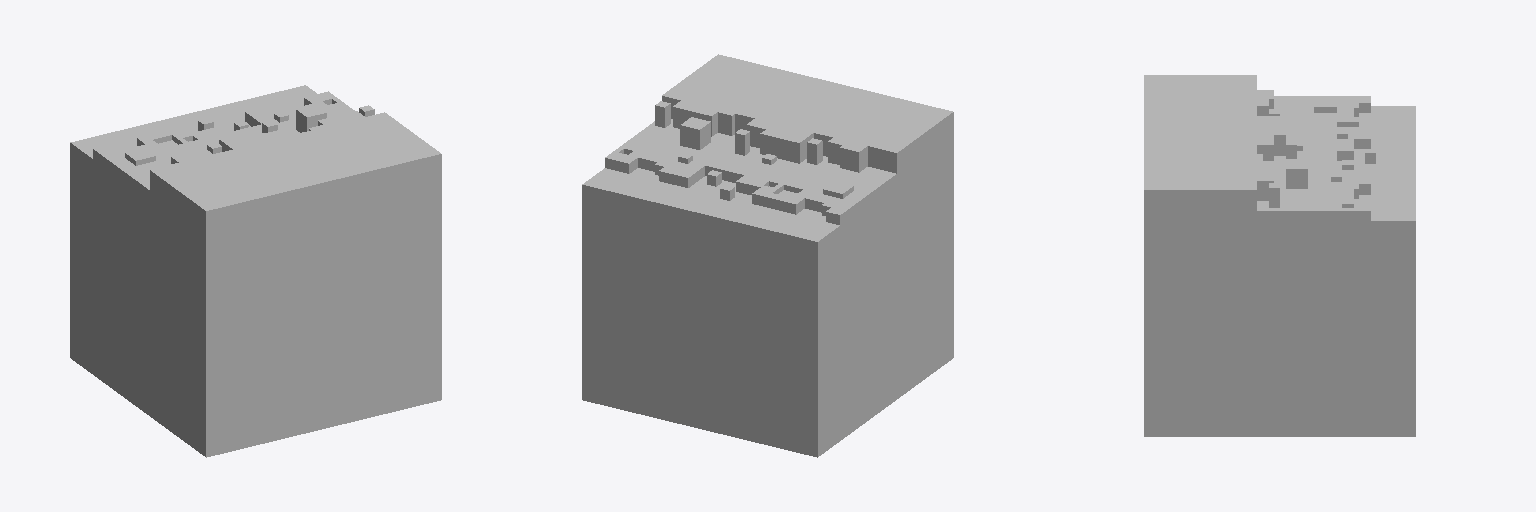
The model's file is grass2riverStraight-0.obj.
The picture shows the model from 3 angles: view 1: azimuth 30°, elevation 25°; view 2: azimuth 150°, elevation 25°; view 3: azimuth 270°, elevation 25°; orthographic projection.
Visible parts, largest first — view 1: object 1; view 2: object 1; view 3: object 1.
Boxes of the visible parts, <box> form: object 1: <box>70,85,441,457</box>; object 1: <box>582,54,953,457</box>; object 1: <box>1144,75,1415,436</box>.
Bounding box in the file's own units: 4.8 × 4.8 × 4.8.